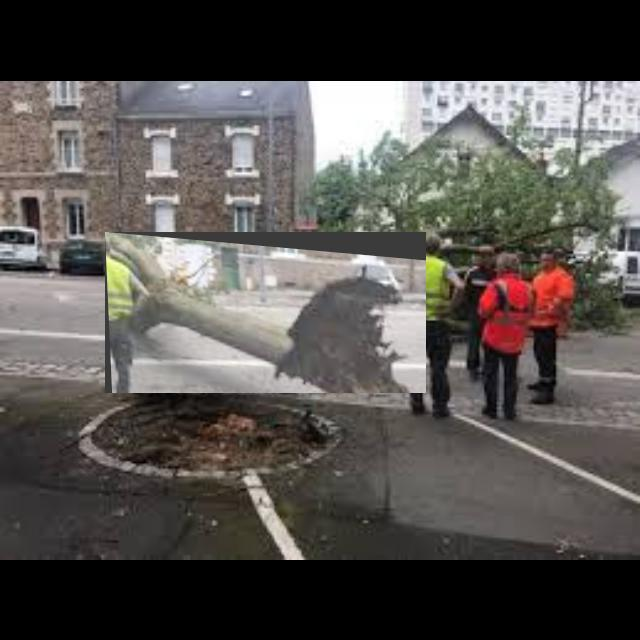Fallen Tree: (105, 232, 427, 394)
